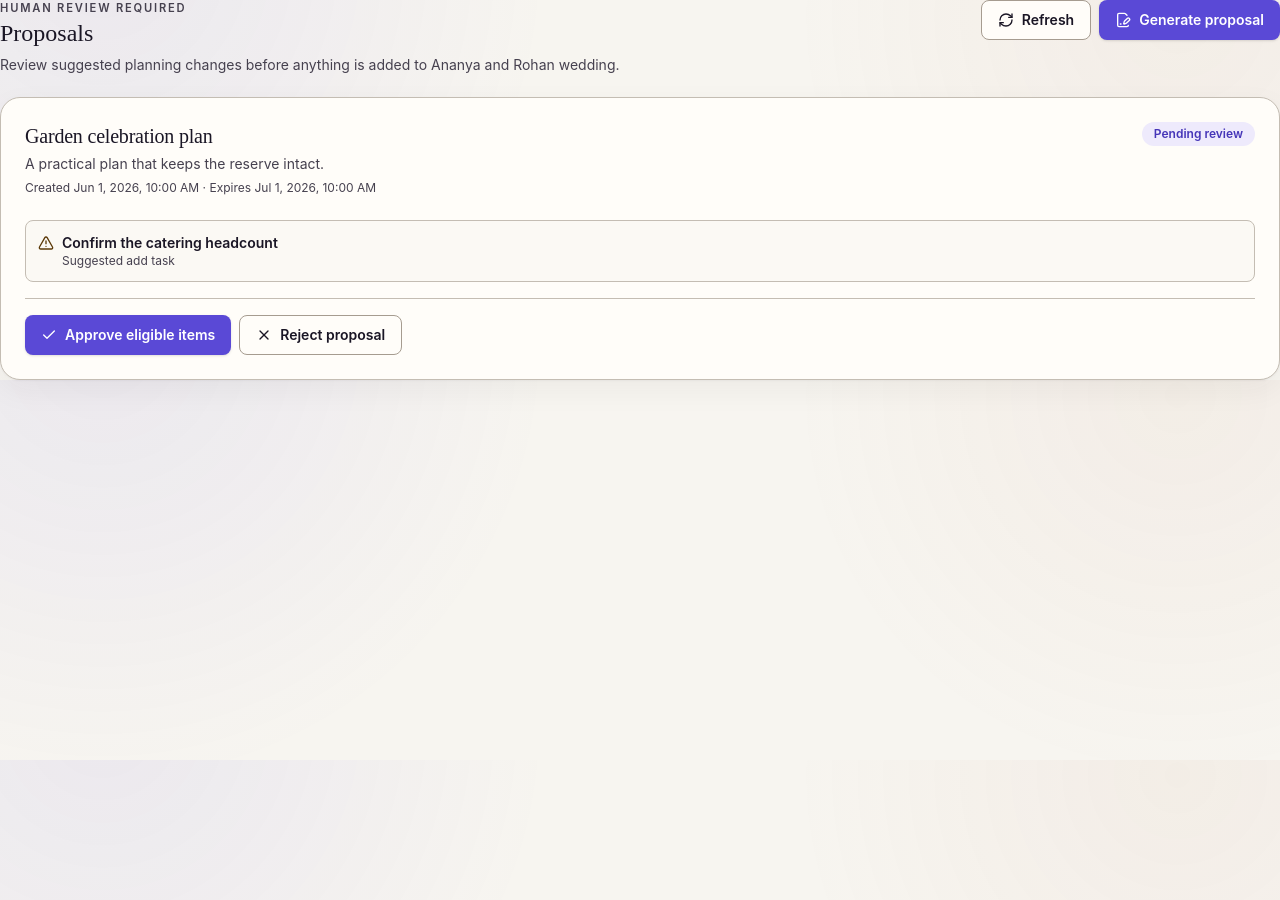
proposals page › shows proposals and opens approval confirmation
The width and height of the screenshot is (1280, 900).
Expected: the heading "Garden celebration plan" is shown, [25, 125, 212, 147]
Expected: the text "Pending review" is shown, [1154, 126, 1243, 141]
What coordinates should you click on to do the following:
click the button "Approve eligible items"
I would click on:
 (128, 335)
Its box is [25, 315, 231, 355].
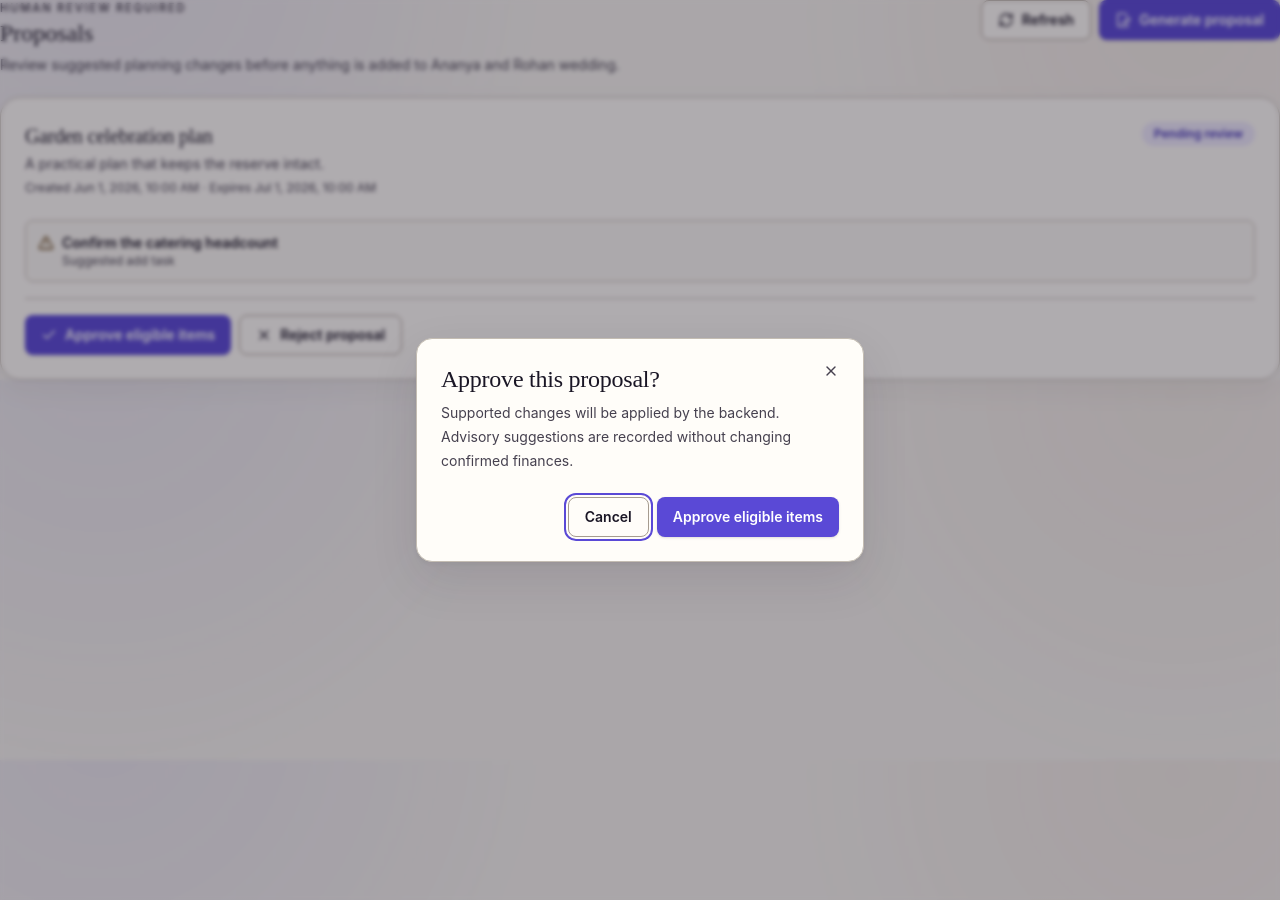
Now the heading "Approve this proposal?" is shown, box [441, 366, 660, 392]
